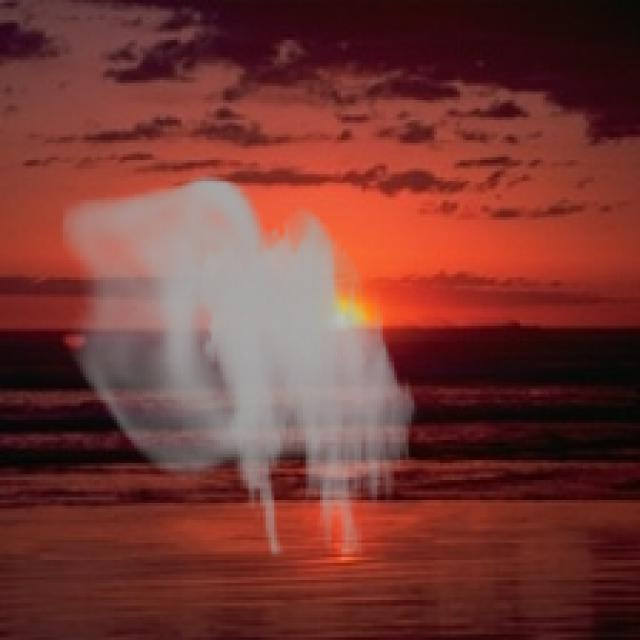smoke: (60, 174, 420, 557)
